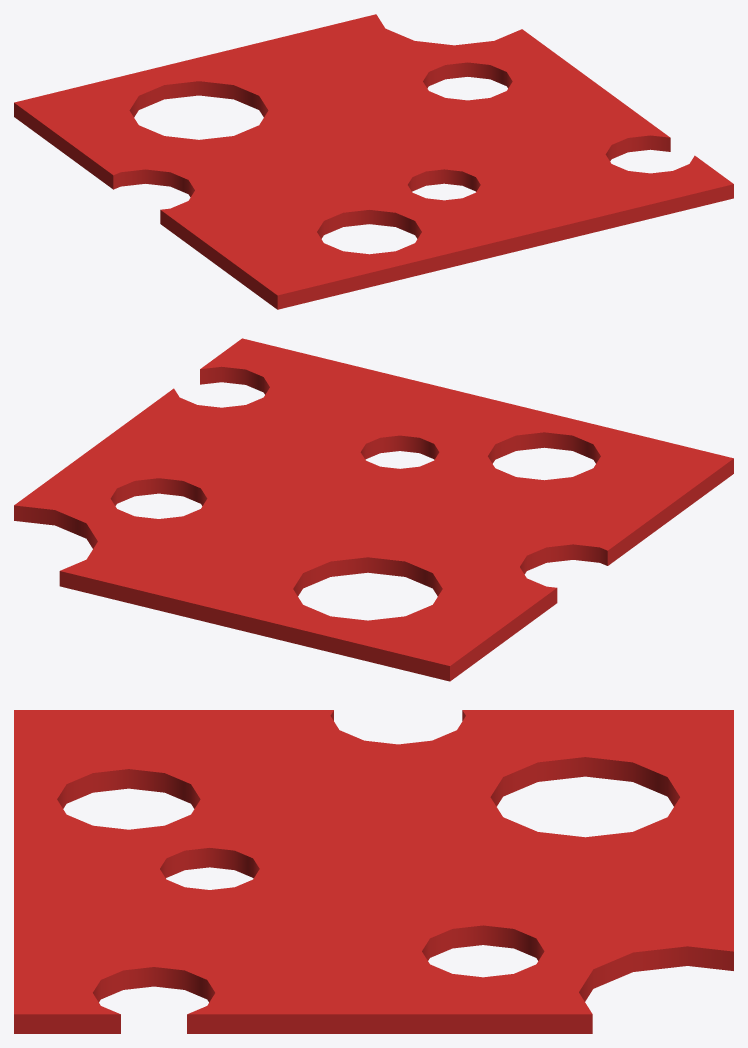
File: Сheese.003.fbx
3 renders of one model, top to bottom at view 1: azimuth 30°, elevation 25°; view 2: azimuth 150°, elevation 25°; view 3: azimuth 270°, elevation 25°, orthographic. The views are drawn at different scales.
Visible parts, largest first — view 1: Сheese.003; view 2: Сheese.003; view 3: Сheese.003.
Part boxes in pixels (bbox=[...]): Сheese.003: bbox=[14, 14, 733, 309]; Сheese.003: bbox=[14, 338, 733, 681]; Сheese.003: bbox=[14, 710, 733, 1033].
Size of the model in its own units: 82.96 by 82.96 by 2.49.
